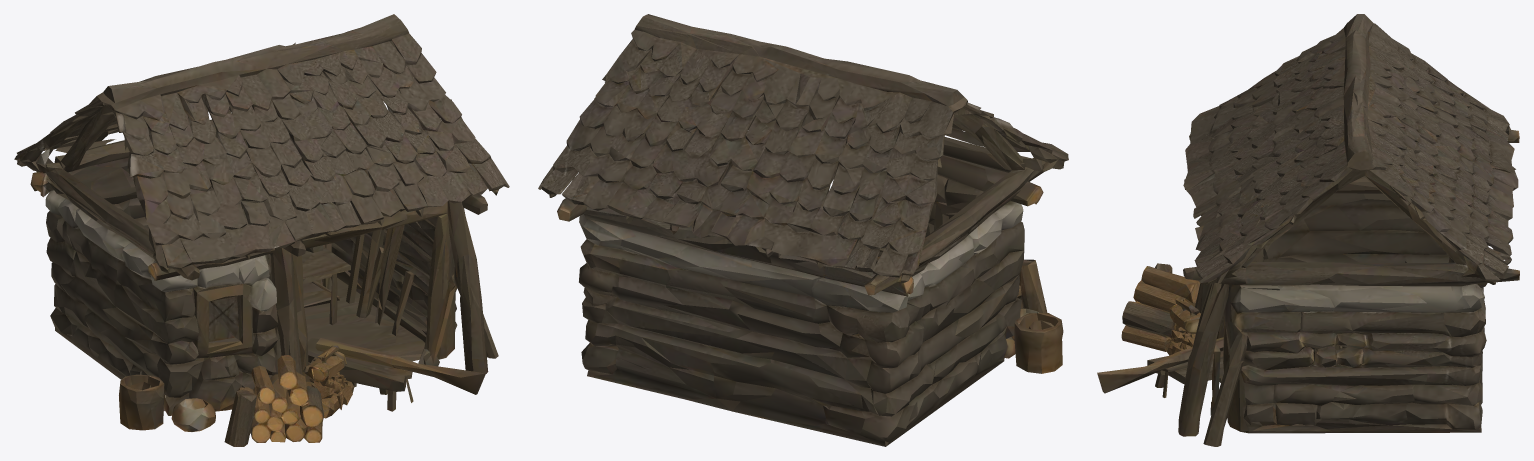
Rendered from holzfaeller.glb.
The picture shows the model from 3 angles, left to right: view 1: azimuth 30°, elevation 25°; view 2: azimuth 150°, elevation 25°; view 3: azimuth 270°, elevation 25°; orthographic projection. The views are drawn at different scales.
Visible parts, largest first — view 1: output_unwrapped; view 2: output_unwrapped; view 3: output_unwrapped.
Part boxes in pixels (x1,y1,x2,y2): output_unwrapped: (14, 14, 509, 446); output_unwrapped: (538, 14, 1068, 446); output_unwrapped: (1097, 14, 1519, 446).
Bounding box in the file's own units: 1.83 × 1.42 × 1.88.
Materials: 1 (1 with a texture image).
